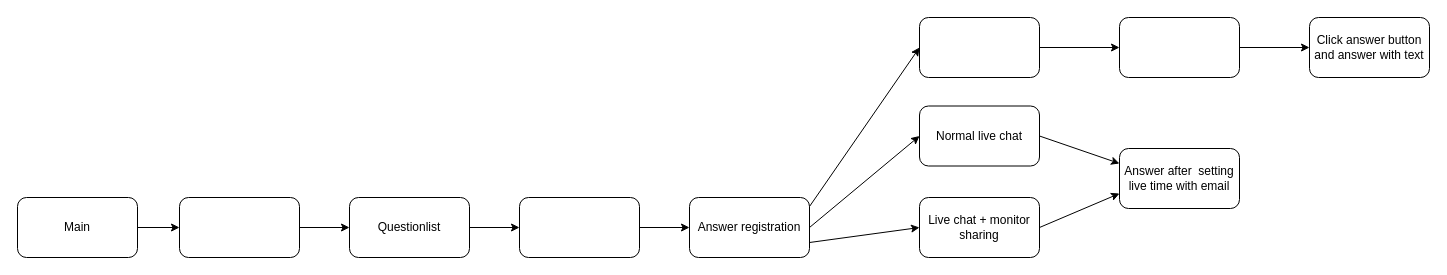
The diagram is 1447 pixels wide and 275 high, and some of its shapes have lost their labels. Each missing label, with the box of its shape:
No answer in that question: (1118, 16, 1240, 78)
Questionview: (518, 196, 640, 258)
Text answer: (918, 16, 1040, 78)
User info : mentor: (178, 196, 300, 258)
